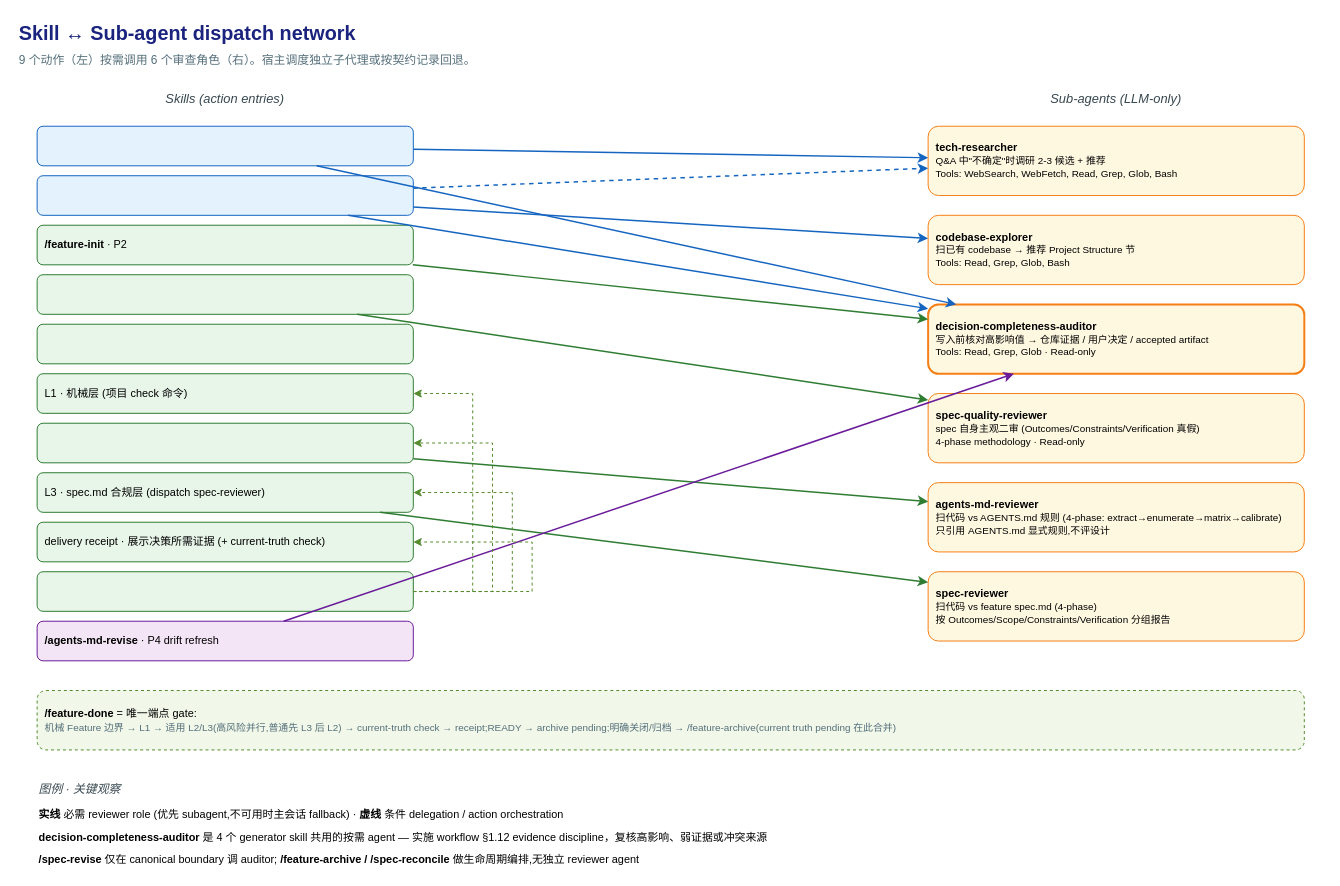
Image size: 1340x886. Some labels were removed from this diagram. Here are the shapes that lost their labels. From the top down, the centre of each, then its label:
At (x=224, y=145): "/project-init · P0".
At (x=224, y=195): "/project-personalize · P0".
At (x=224, y=294): "/spec-quality-check · P2 pre-impl gate".
At (x=224, y=343): "/spec-revise · P2 mid-impl".
At (x=224, y=442): "L2 · AGENTS.md 合规层 (dispatch agents-md-reviewer)".
At (x=224, y=591): "/feature-done · 端点 composite (= L1+适用 L2/L3+proof)".
